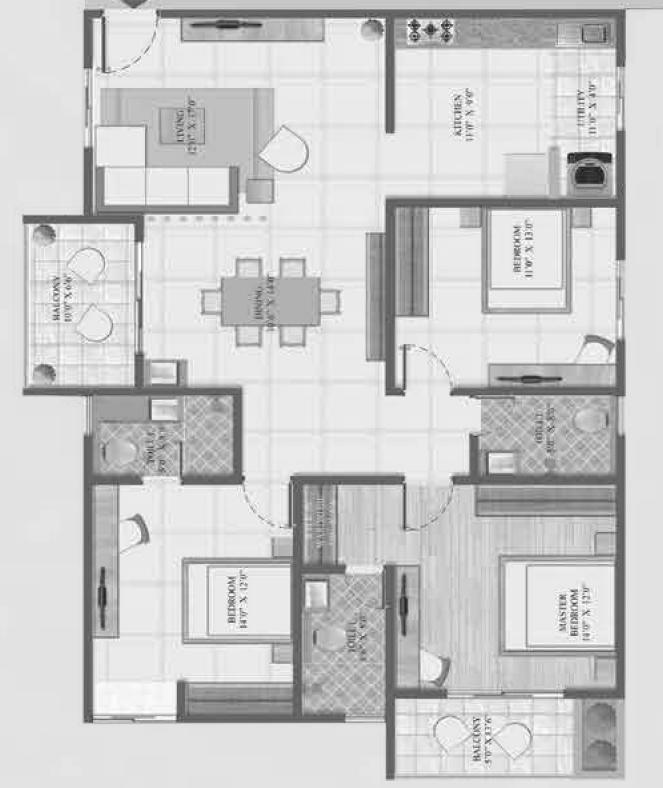Balcony: (389, 694, 621, 778), (28, 221, 140, 388)
Bed: (501, 561, 619, 651), (484, 204, 569, 313), (182, 559, 294, 639)
Bedroom: (88, 477, 297, 718), (386, 481, 619, 693), (389, 204, 620, 393), (303, 481, 393, 571)
Dining Room: (141, 209, 383, 391)
Dining table: (199, 260, 343, 353)
Kitchen: (392, 16, 558, 196)
Living Room: (102, 13, 382, 214)
Sofa: (94, 168, 236, 210), (99, 126, 147, 203)
Wardrobe: (474, 482, 619, 517), (183, 684, 298, 719), (392, 206, 427, 316), (301, 483, 339, 570)
commode: (571, 403, 612, 432), (309, 628, 350, 653), (103, 441, 136, 466)
door: (89, 14, 160, 76), (397, 343, 457, 398), (402, 478, 459, 530), (239, 477, 293, 528), (130, 237, 151, 357), (446, 686, 564, 704), (472, 399, 518, 443), (139, 434, 182, 478)
fridge: (502, 155, 548, 194)
kitchen-slab: (391, 18, 618, 56)
sink: (557, 22, 613, 51), (484, 450, 519, 478), (303, 579, 329, 612), (151, 398, 181, 423), (152, 361, 178, 382)
stove: (408, 17, 457, 46)
toilet: (296, 572, 386, 721), (88, 390, 238, 476), (472, 397, 619, 480)
tv: (91, 532, 122, 636), (387, 566, 419, 659), (183, 18, 286, 41), (490, 368, 571, 392)
utility: (556, 18, 617, 196)
washing-machine: (567, 151, 614, 196)
